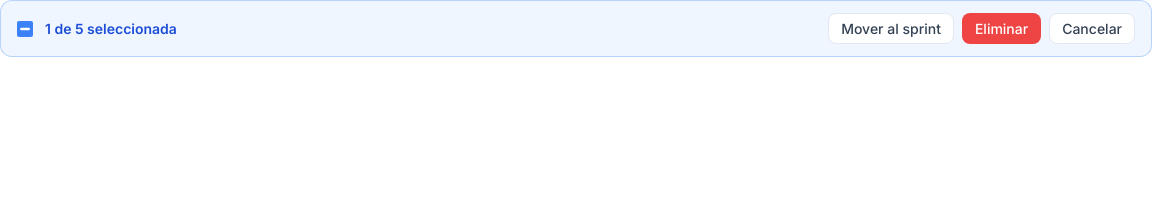
it: BacklogToolbar › shows sprint menu when move button is clicked
Click the button "Mover al sprint" at (891, 28), box [828,13,954,44]
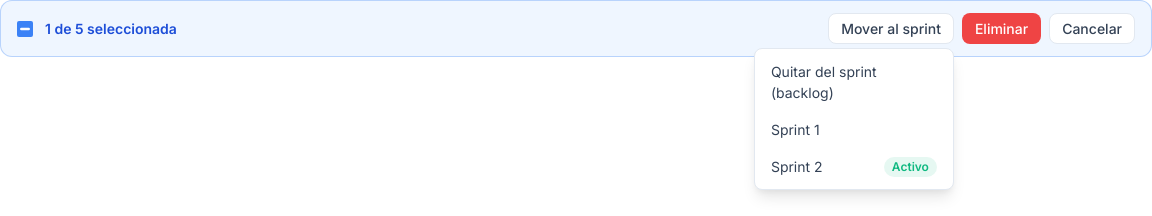
Result: the menu item "Quitar del sprint (backlog)" is shown at [759,53,949,111]
